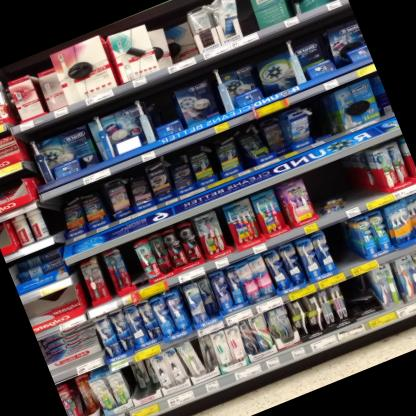empty_space: (317, 148, 384, 216), (305, 95, 342, 143), (328, 228, 364, 273), (0, 223, 14, 258)
